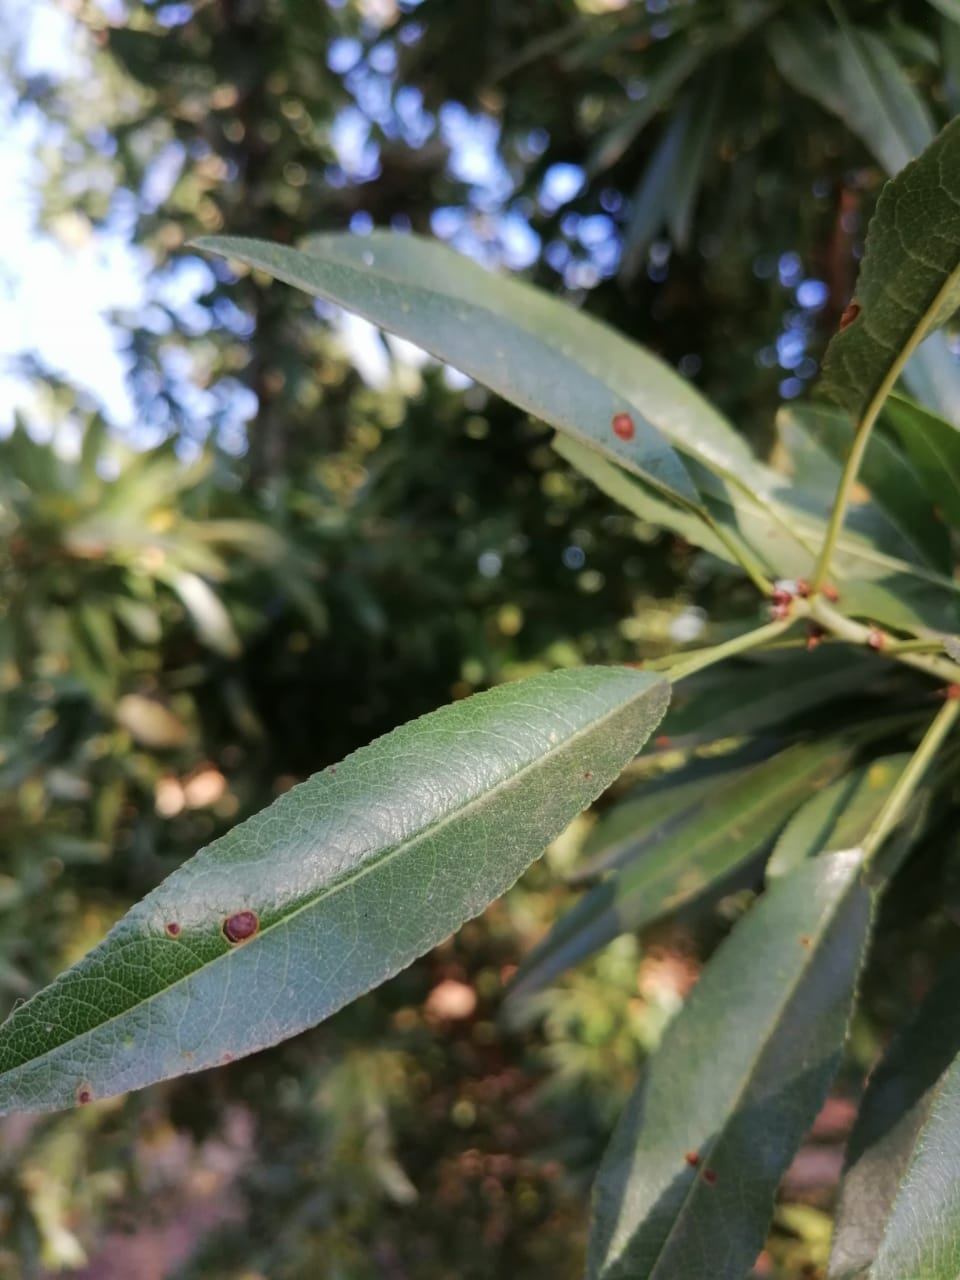coryneum: (1, 665, 675, 1119), (191, 234, 717, 519)
